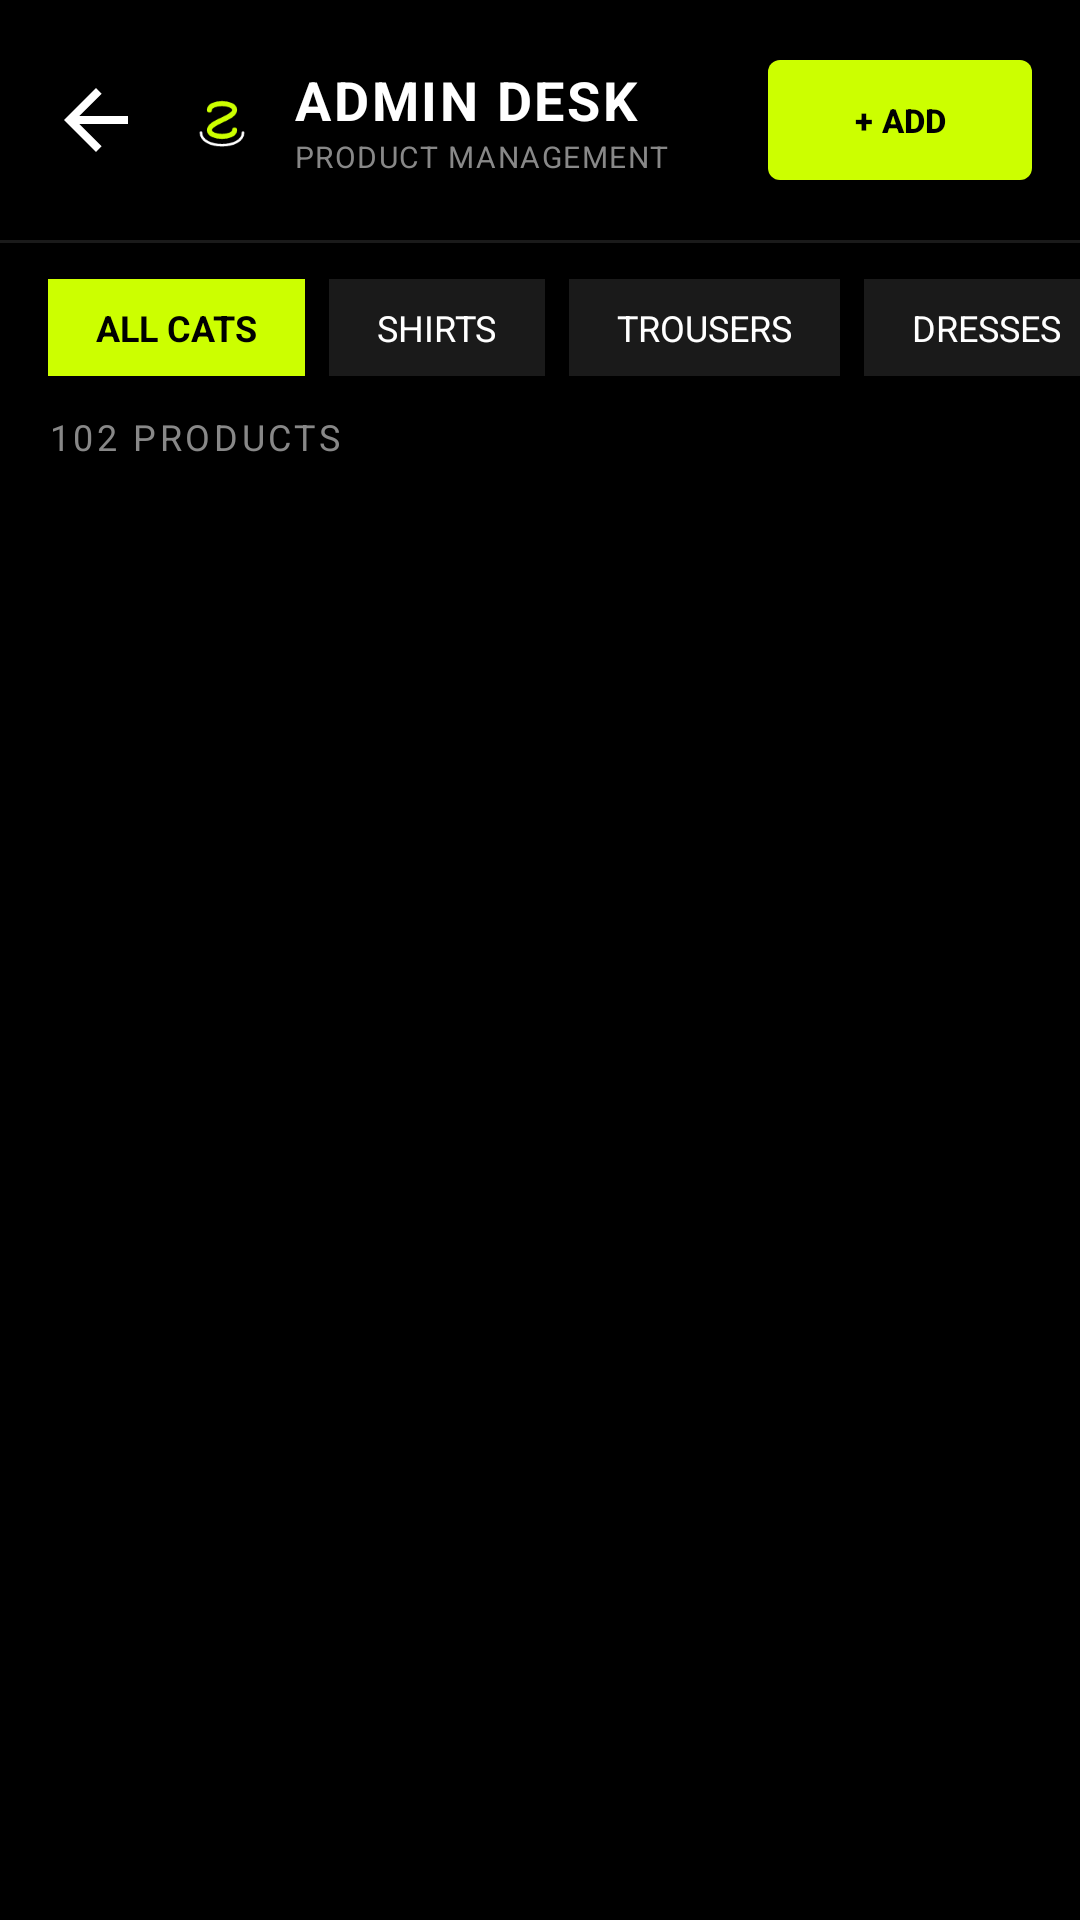

Point at icon controls on the screen. Image size 1080x1920, points as [x,y].
back: [96,120]
